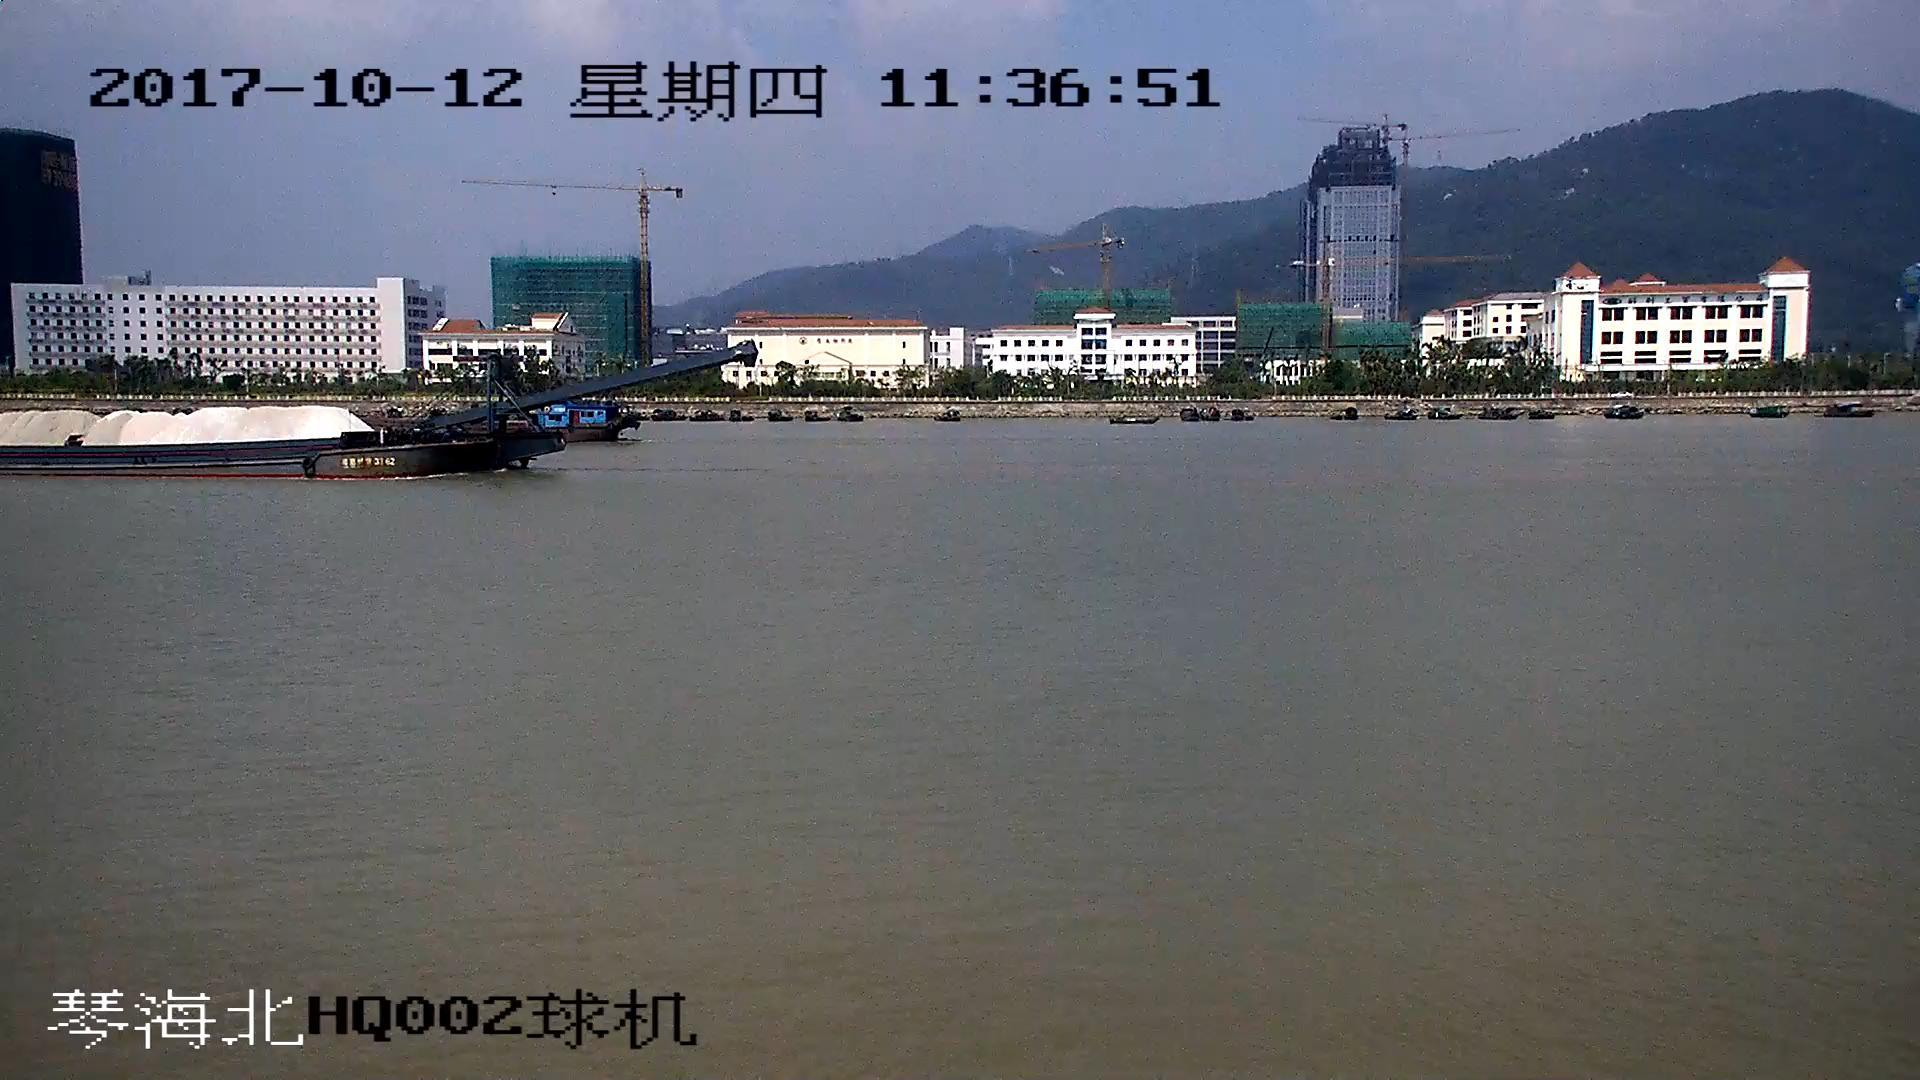Ship: (3, 345, 753, 484)
